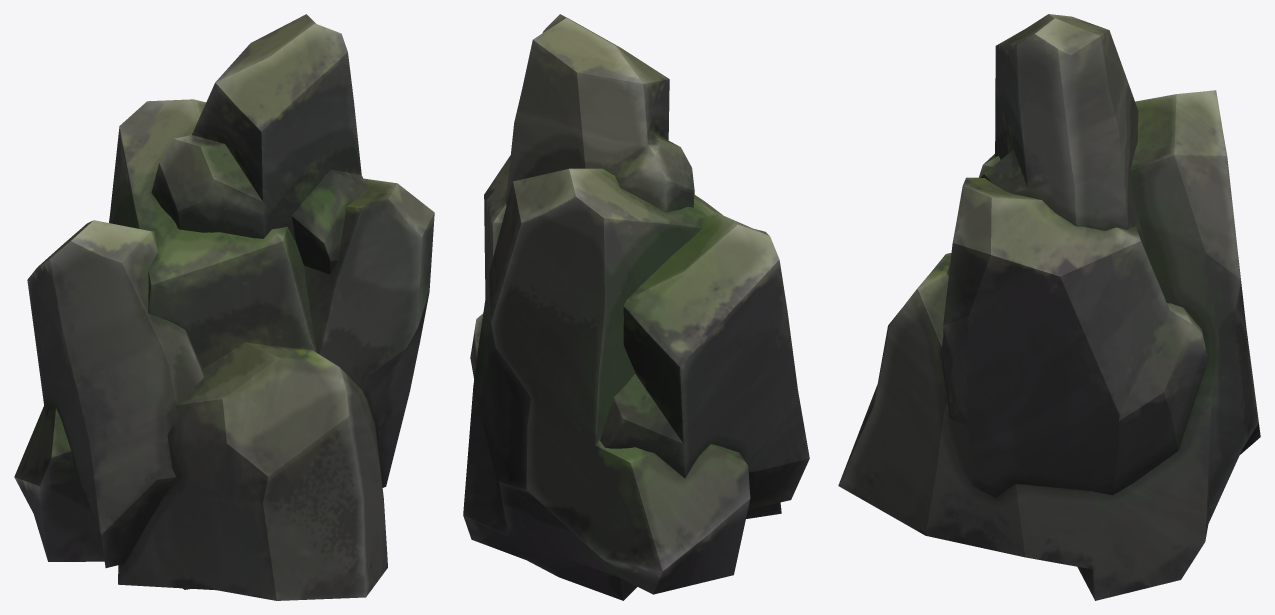
File: Rock_3.gltf
The picture shows the model from 3 angles, left to right: view 1: azimuth 30°, elevation 25°; view 2: azimuth 150°, elevation 25°; view 3: azimuth 270°, elevation 25°; orthographic projection. The views are drawn at different scales.
Parts seen in each view (by area): view 1: Rock_3; view 2: Rock_3; view 3: Rock_3.
Boxes of the visible parts, x1,y1,x2,y2 form: Rock_3: (14,14,434,600); Rock_3: (463,14,809,600); Rock_3: (838,14,1260,600).
Bounding box in the file's own units: 1.27 × 1.97 × 1.35.
Materials: 1 (1 with a texture image).
